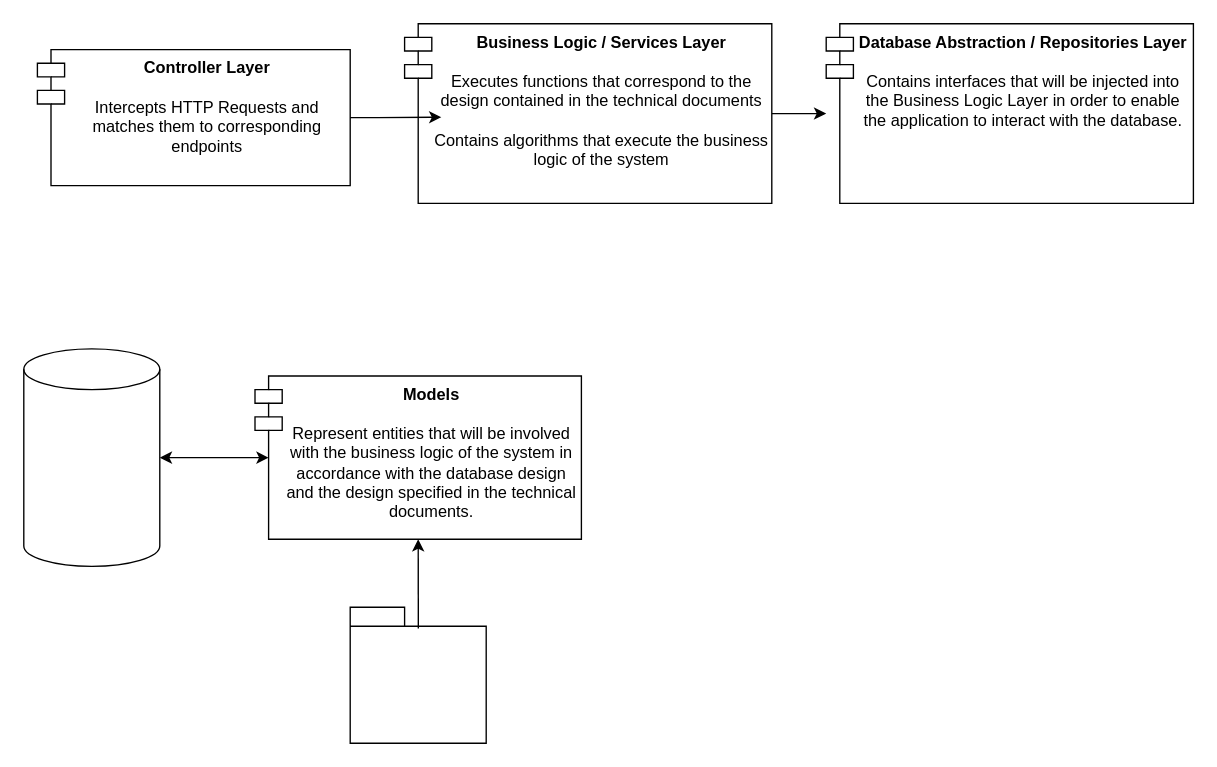
The diagram is 1217 pixels wide and 767 high, and some of its shapes have lost their labels. Each missing label, with the centre of its shape:
"Associative Entities" belongs at point 417,674.
"MySQL Database" belongs at point 91,456.
